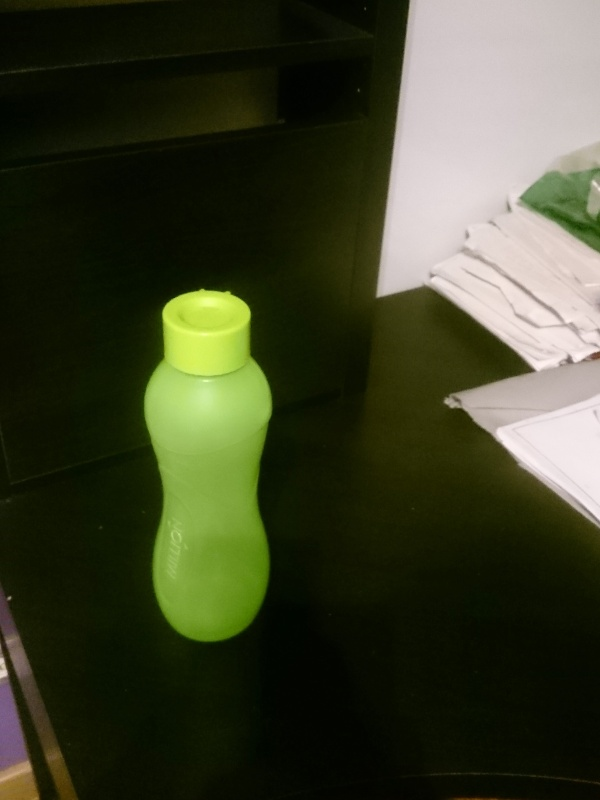my bottle: (140, 291, 272, 647)
